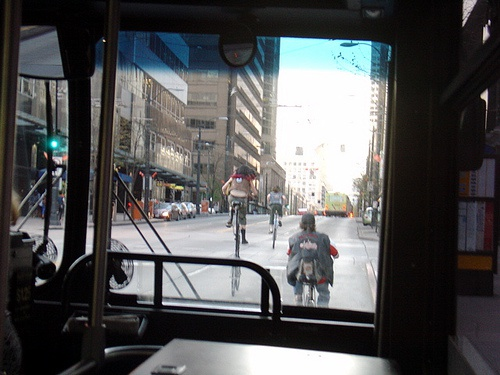non-vehicle: (225, 200, 242, 259), (300, 277, 318, 304), (268, 208, 279, 248)
